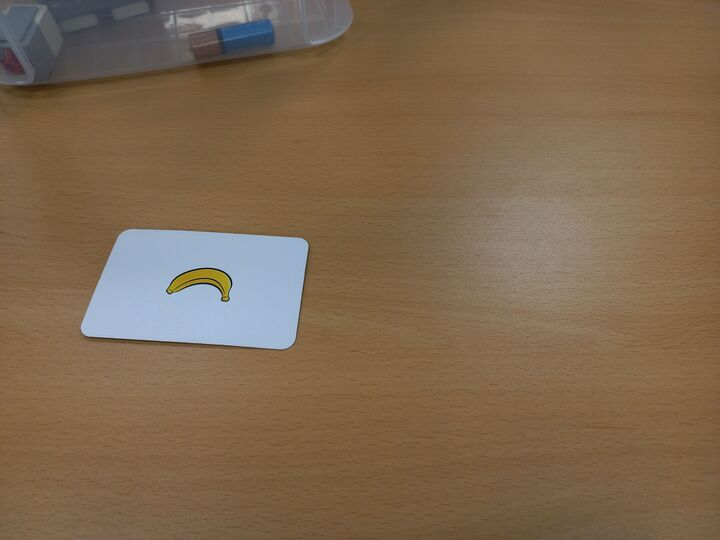banana1: (77, 226, 311, 353)
